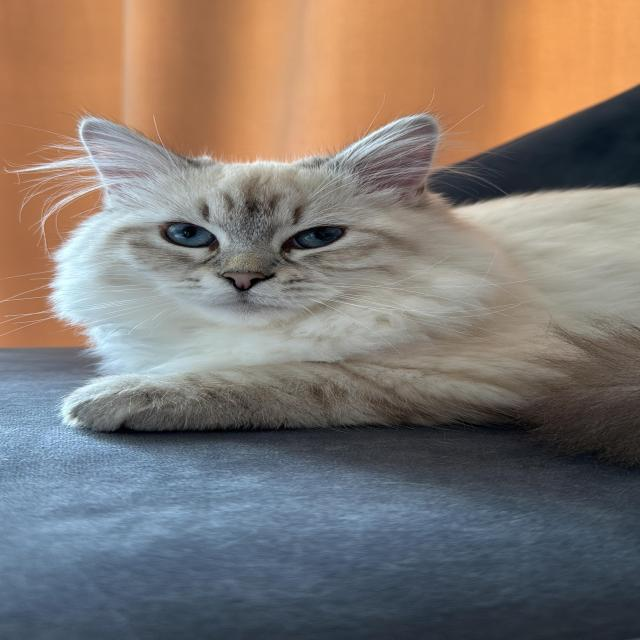Neva Masquerade: (35, 104, 640, 476)
